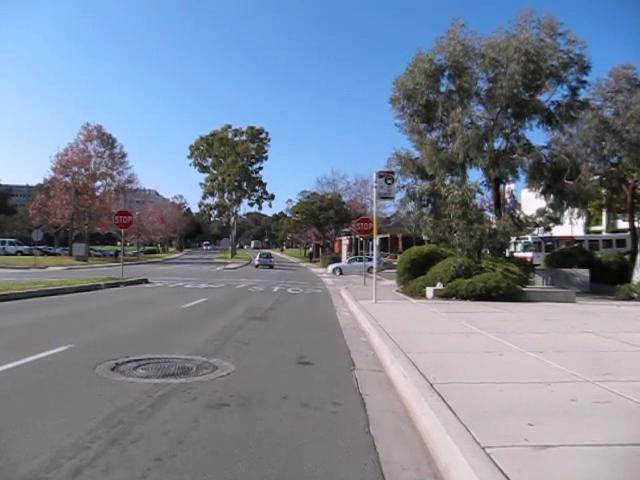stop: (112, 208, 135, 230), (354, 214, 374, 236)
